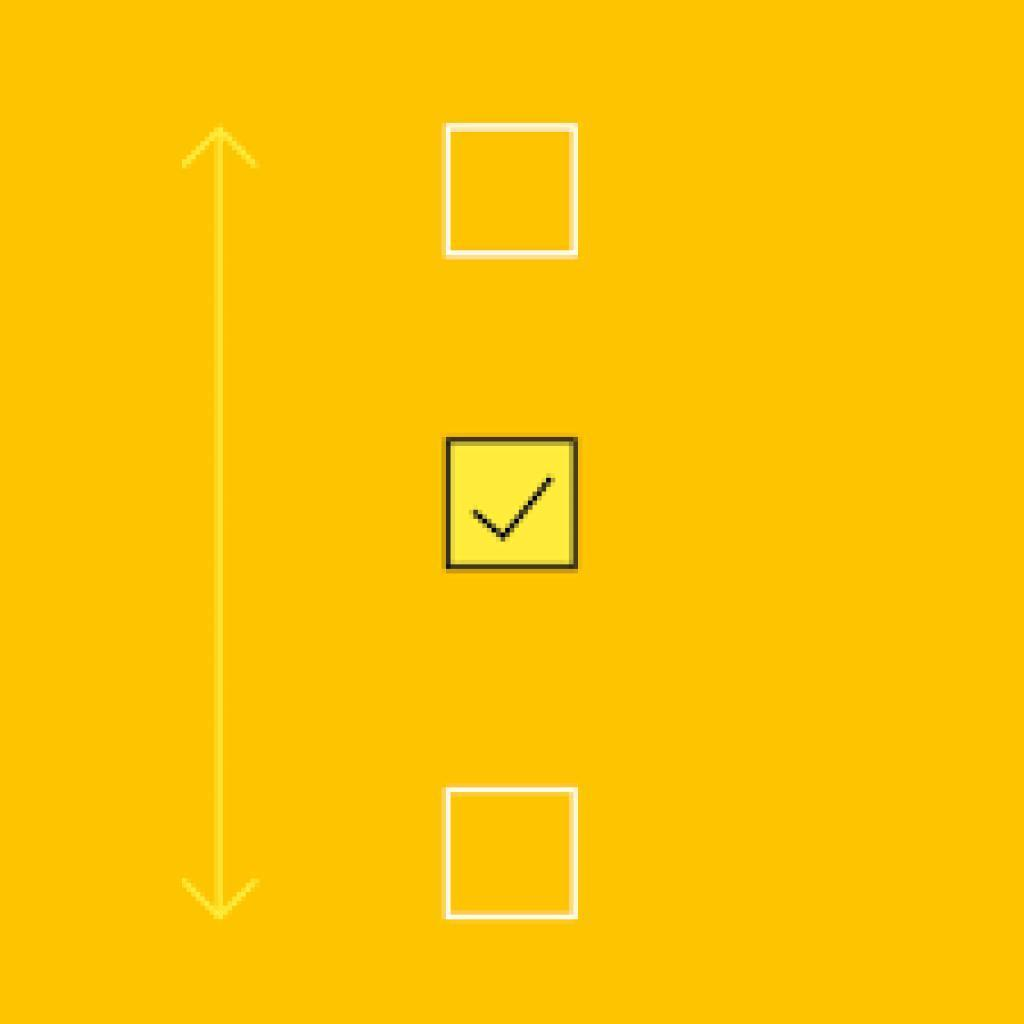checkbox: (448, 441, 580, 570), (451, 128, 579, 259), (450, 792, 579, 918)
